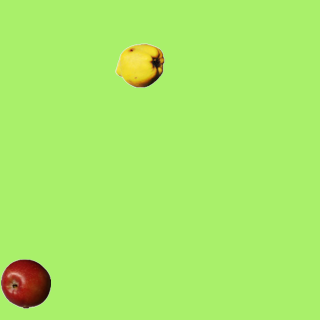Apple Braeburn: (0, 258, 50, 308)
Quince: (114, 40, 164, 90)
